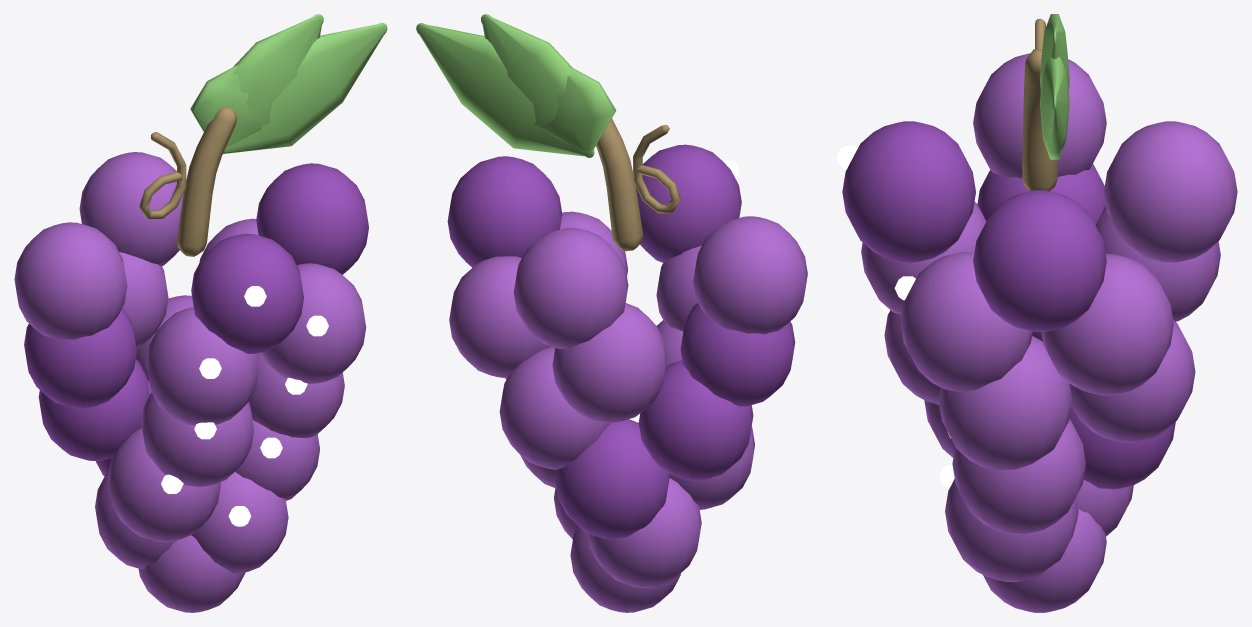
File: fruit_grapes.glb
The picture shows the model from 3 angles, left to right: view 1: azimuth 30°, elevation 25°; view 2: azimuth 150°, elevation 25°; view 3: azimuth 270°, elevation 25°; orthographic projection. The views are drawn at different scales.
Visible parts, largest first — view 1: fruit_grapes; view 2: fruit_grapes; view 3: fruit_grapes.
Boxes of the visible parts, x1,y1,x2,y2 form: fruit_grapes: [14, 14, 387, 612]; fruit_grapes: [416, 14, 807, 612]; fruit_grapes: [836, 14, 1237, 612].
Bounding box in the file's own units: 0.3376 × 0.4843 × 0.27.
